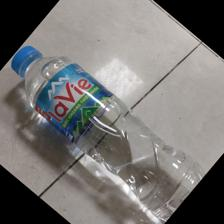Lavie: (10, 42, 212, 223)
